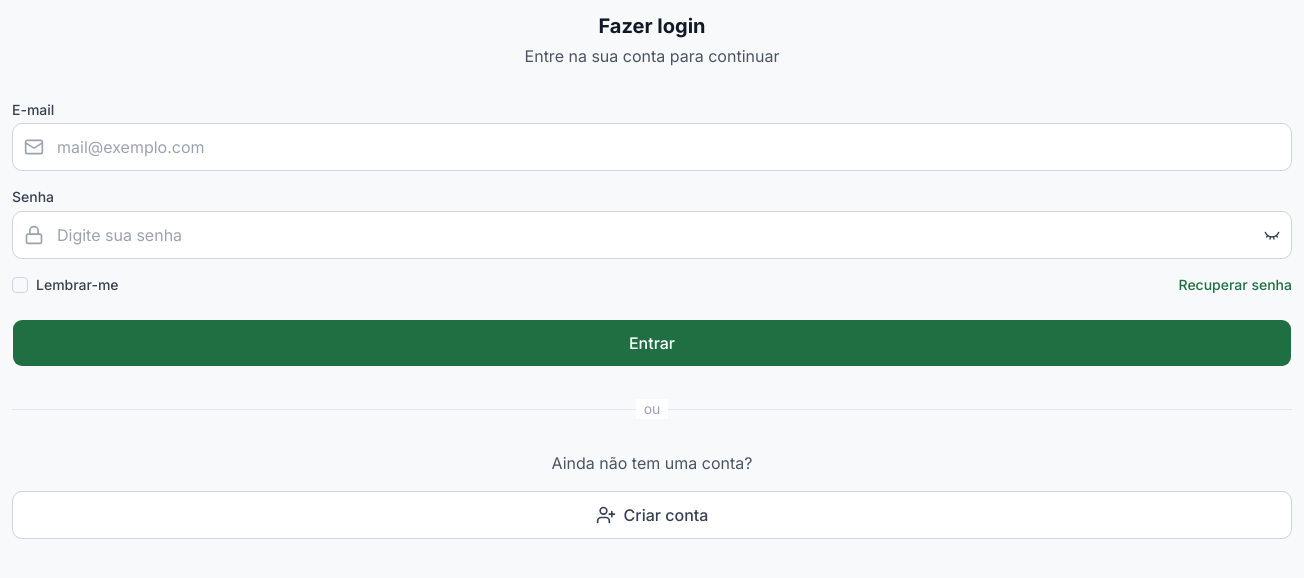
SignIn › requires a password with at least 8 characters
The width and height of the screenshot is (1304, 578).
Type "conta@teste.com" into the field labelled "E-mail" at (652, 147), box [12, 123, 1292, 171]
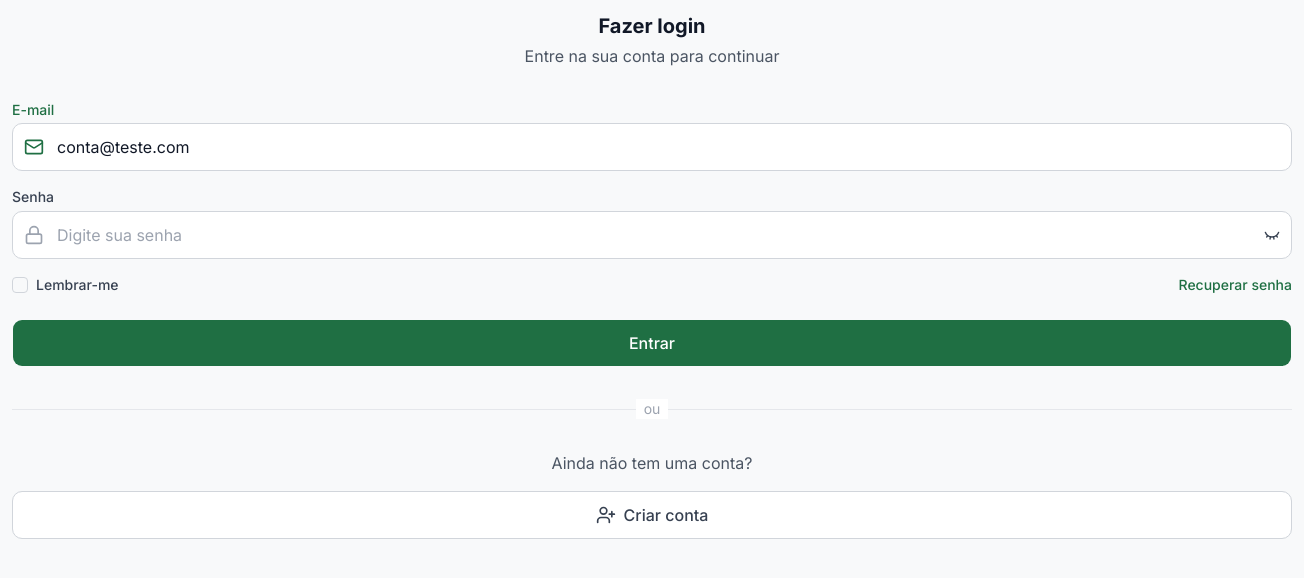
Type "1234" into the password field labelled "Senha" at (652, 234), box [12, 210, 1292, 258]
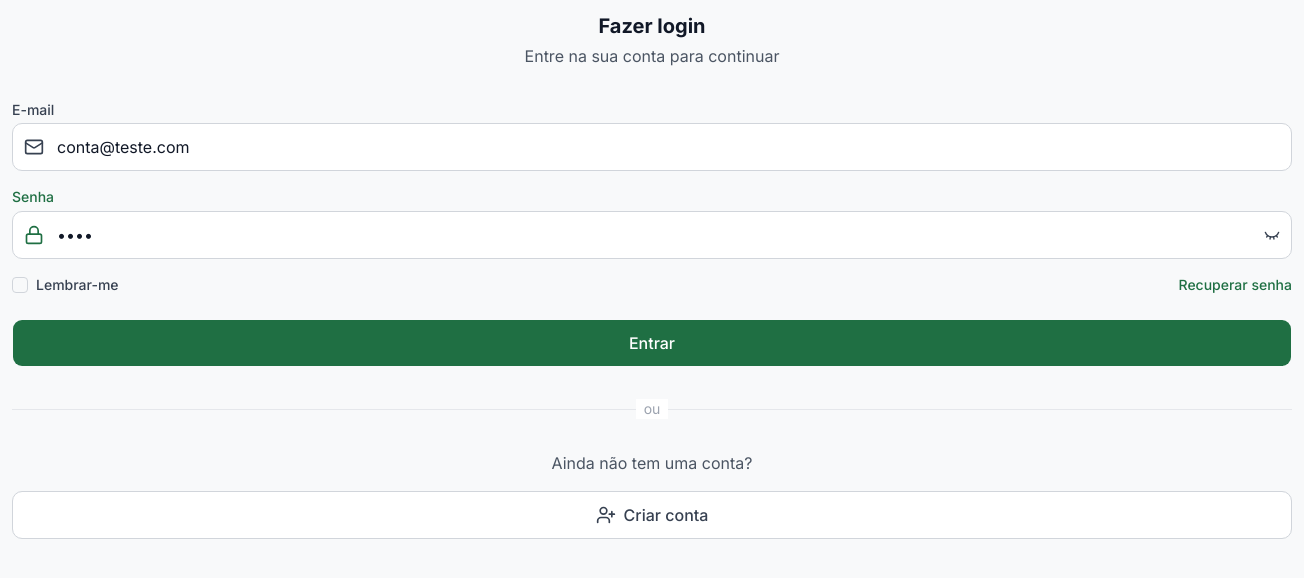
Click the button "Entrar" at (652, 342), box [12, 318, 1292, 366]
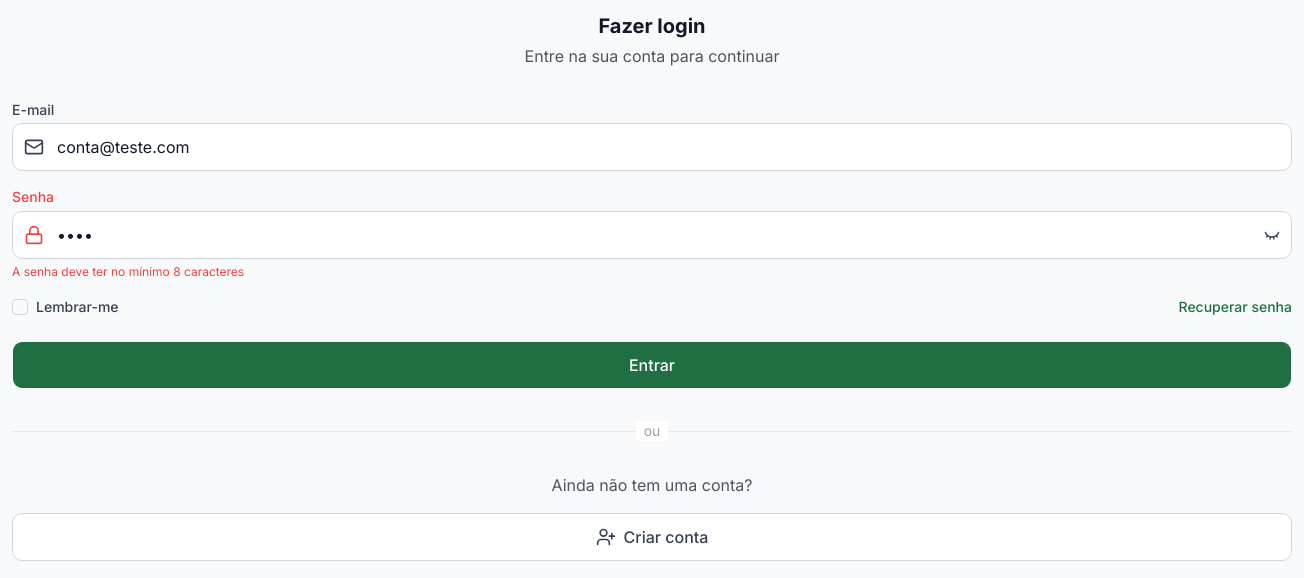
Expected: the text "A senha deve ter no mínimo 8 caracteres" is shown, [12, 264, 244, 278]
